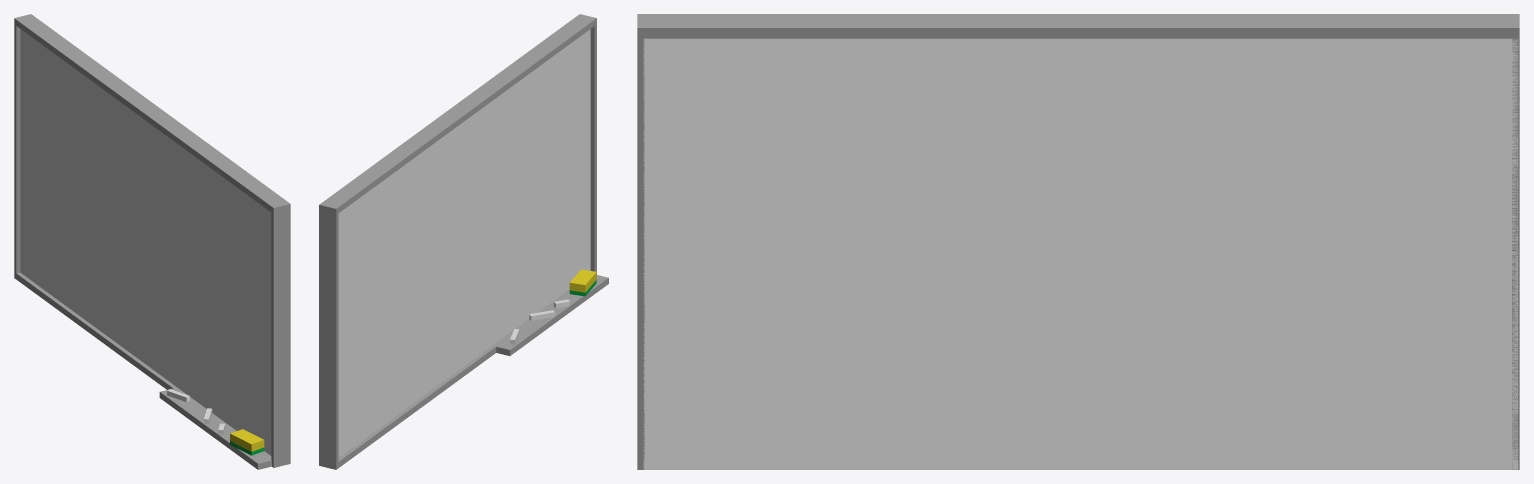
The model's file is tablica-biala.gltf.
3 views of the same model, side by side, from view 1: azimuth 30°, elevation 25°; view 2: azimuth 150°, elevation 25°; view 3: azimuth 270°, elevation 25° (orthographic). The views are drawn at different scales.
Visible parts, largest first — view 1: cube (×7); view 2: cube (×7); view 3: cube (×5).
Part boxes in pixels (x1=…): cube (×7): x1=14, y1=14, x2=290, y2=469; cube (×7): x1=319, y1=14, x2=608, y2=469; cube (×5): x1=637, y1=14, x2=1519, y2=469.
Size of the model in its own units: 0.0789 by 0.5922 by 1.07.
1 material, 1 textured.
